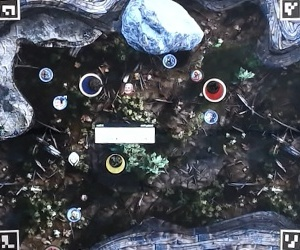blue: (81, 74, 104, 97)
lime_green_violet: (101, 150, 124, 173)
red: (203, 79, 226, 102)
